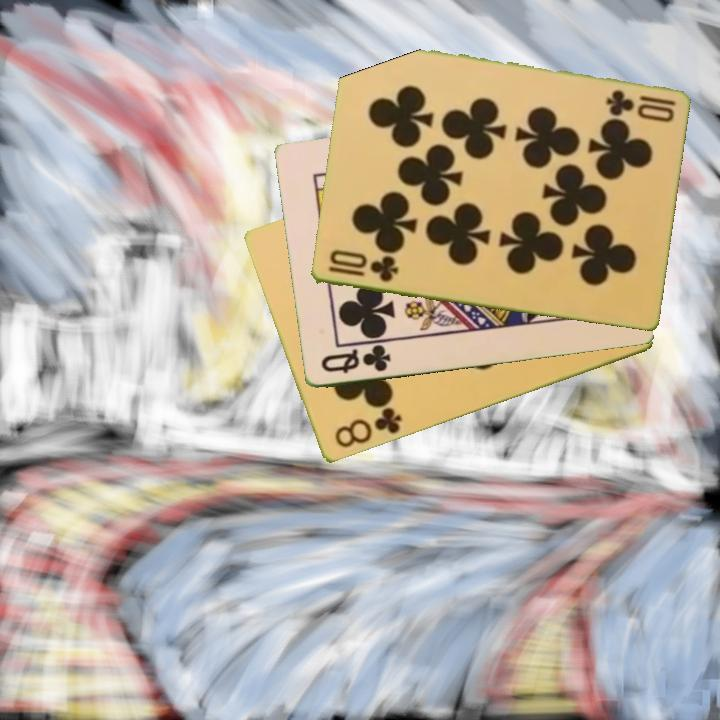10c: (324, 247, 401, 286), (602, 86, 678, 116)
8c: (331, 404, 405, 452)
Qc: (317, 341, 394, 377)
